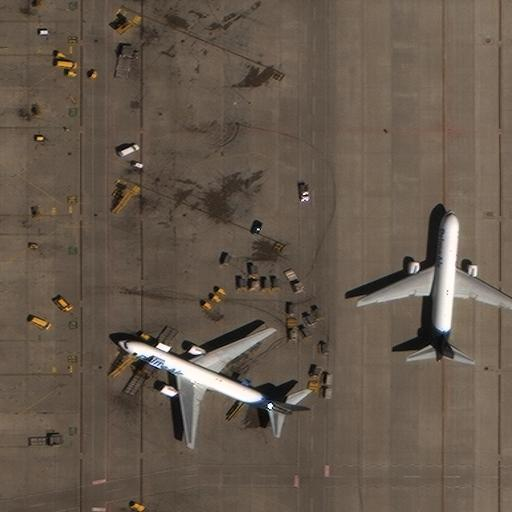Large Civil Transport: (356, 209, 512, 363), (117, 327, 311, 447)
